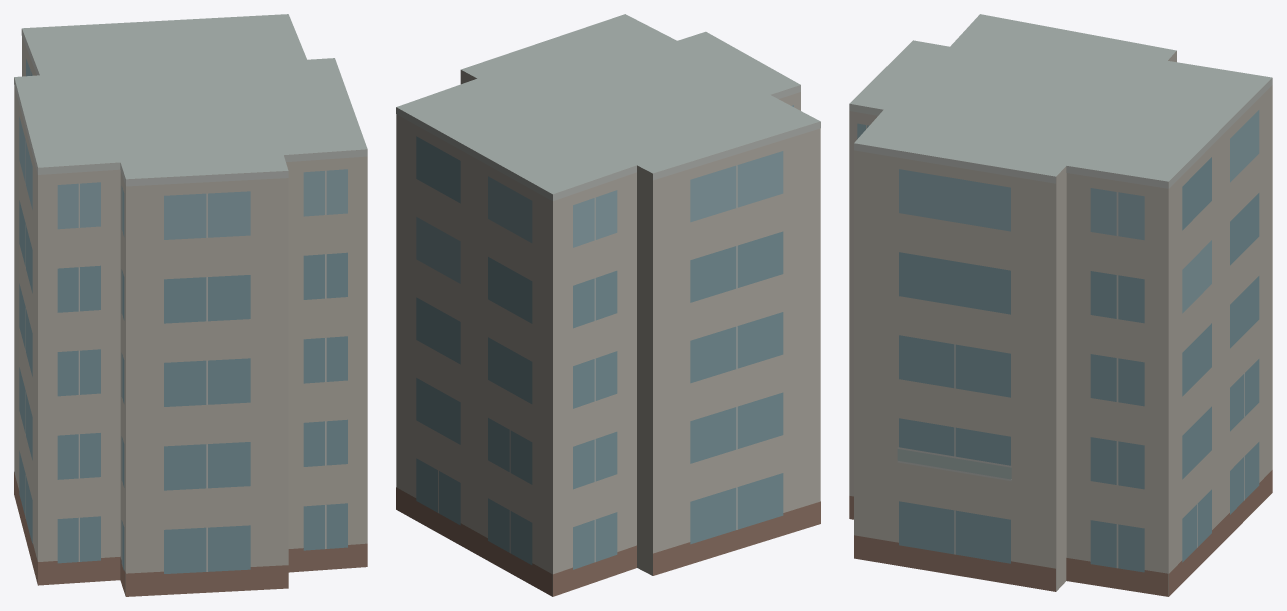
Rendered from survey-upis-32749657.glb.
3 views of the same model, side by side, from view 1: azimuth 30°, elevation 25°; view 2: azimuth 150°, elevation 25°; view 3: azimuth 270°, elevation 25° (orthographic). The views are drawn at different scales.
Parts seen in each view (by area): view 1: survey-upis-32749657.tmp; view 2: survey-upis-32749657.tmp; view 3: survey-upis-32749657.tmp.
Part boxes in pixels (x1,y1,x2,y2): survey-upis-32749657.tmp: [14, 14, 367, 596]; survey-upis-32749657.tmp: [396, 14, 820, 596]; survey-upis-32749657.tmp: [849, 14, 1272, 596].
Size of the model in its own units: 12.22 by 14.1 by 13.03.
